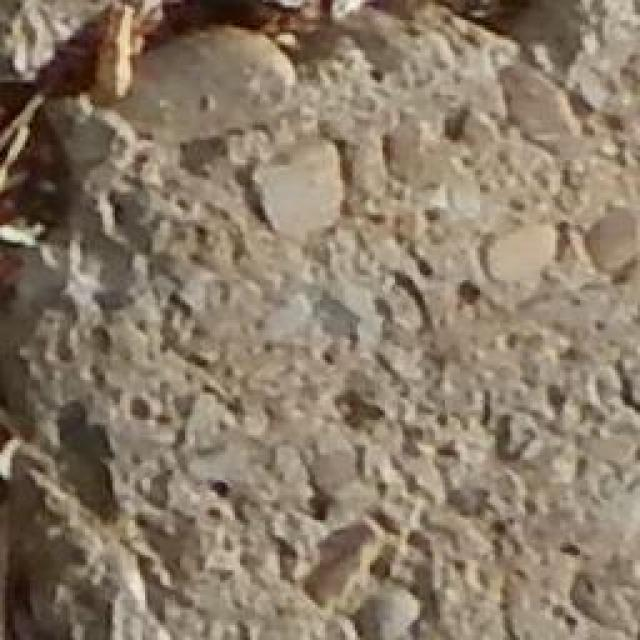concrete-crack: (0, 0, 571, 329), (0, 377, 74, 640)
